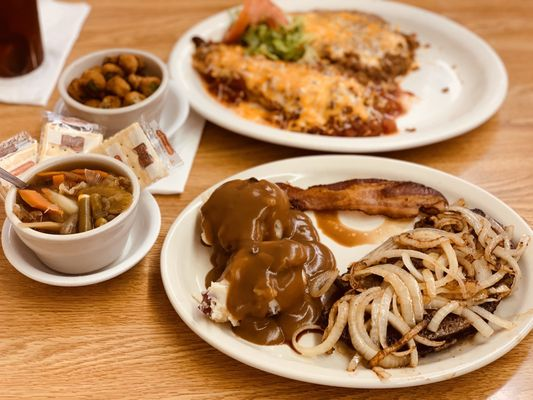pizza: (0, 0, 46, 79)
sushi: (3, 152, 142, 276), (57, 48, 170, 135)
